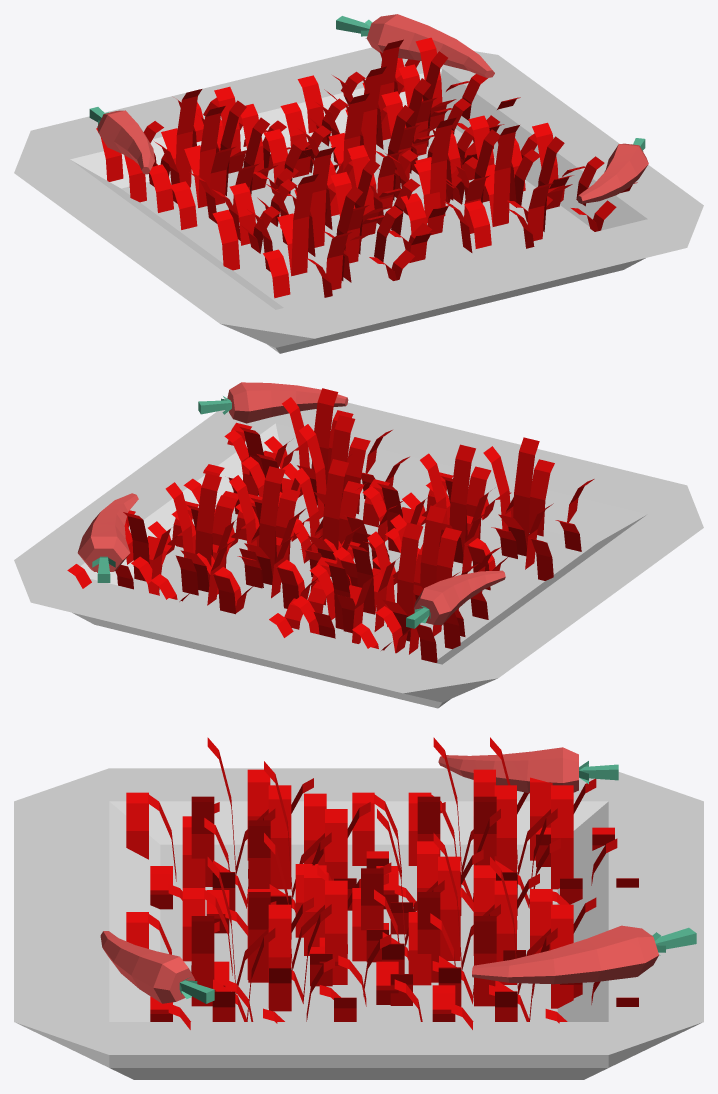
The model's file is spice-mix.fbx.
3 views of the same model, one above another, from view 1: azimuth 30°, elevation 25°; view 2: azimuth 150°, elevation 25°; view 3: azimuth 270°, elevation 25° (orthographic). The views are drawn at different scales.
Parts seen in each view (by area): view 1: mergedBlocks; view 2: mergedBlocks; view 3: mergedBlocks.
Part boxes in pixels (bbox=[...]): mergedBlocks: bbox=[14, 14, 703, 353]; mergedBlocks: bbox=[14, 382, 703, 708]; mergedBlocks: bbox=[14, 737, 703, 1079].
Bounding box in the file's own units: 12.02 × 3.34 × 12.22.
